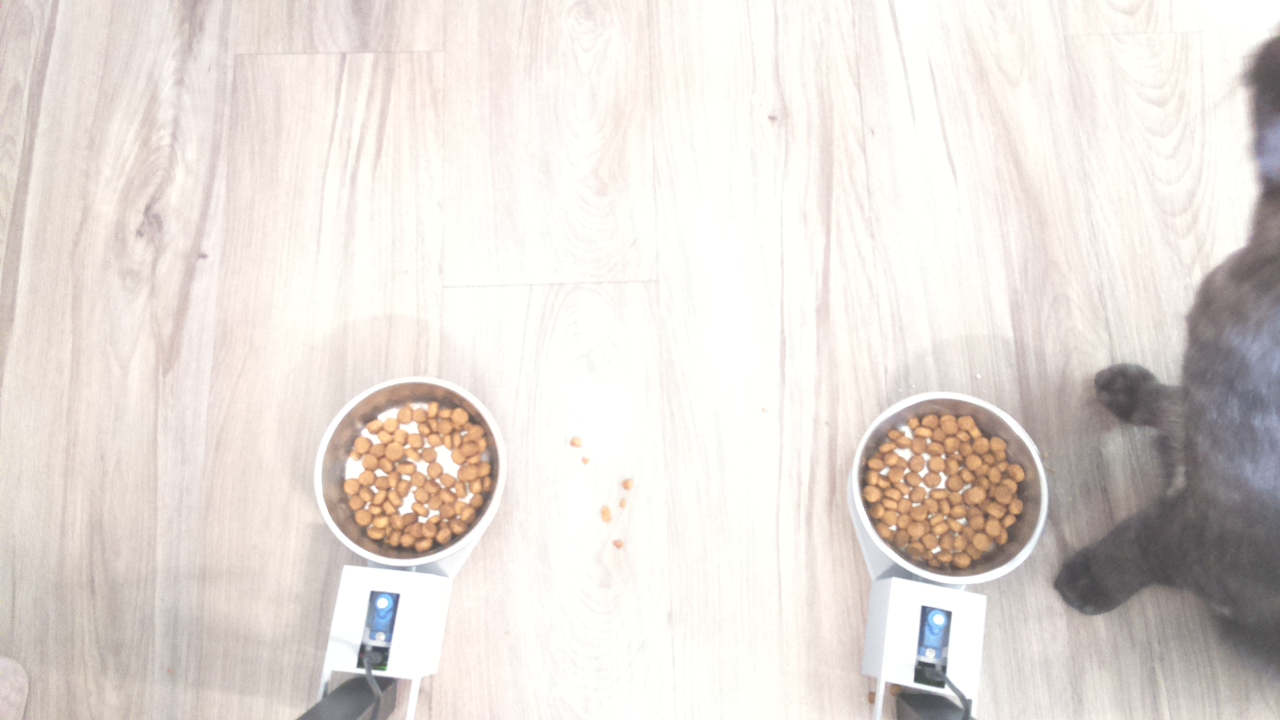open_bowl: (847, 389, 1051, 585), (311, 379, 504, 566)
